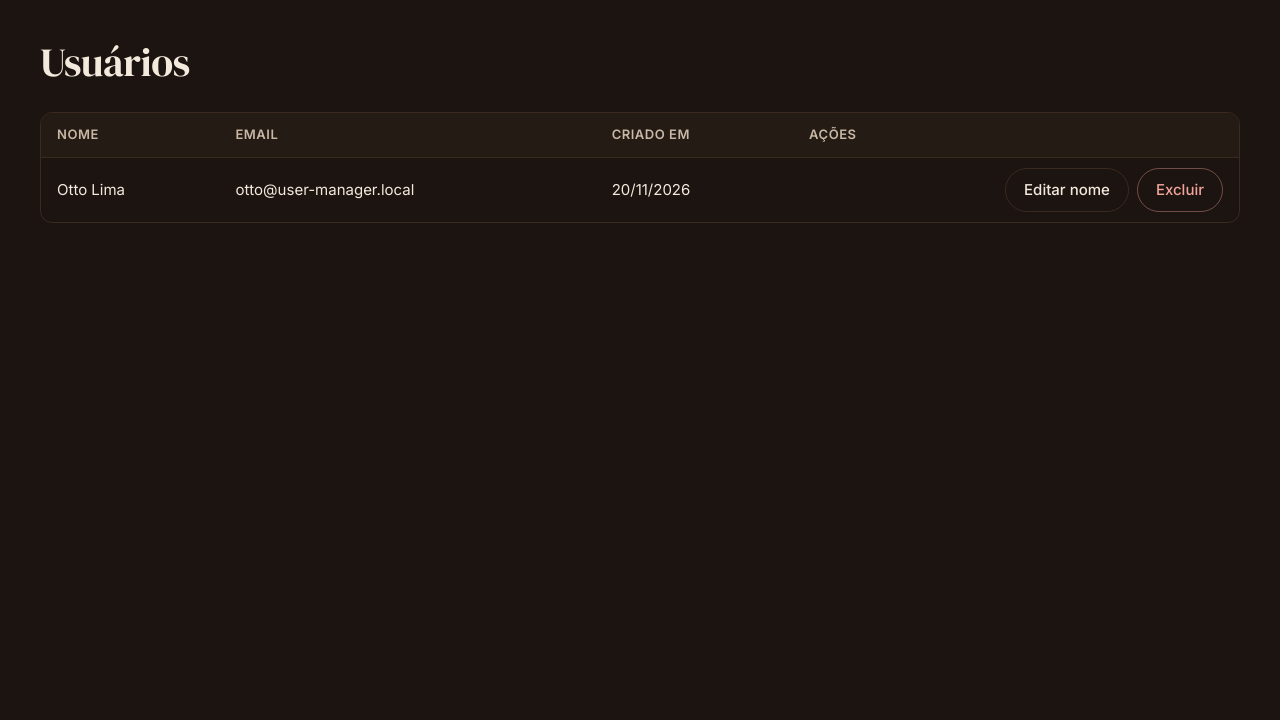
Test: UsersPage › UsersPage_OperatorDeletes_AfterInAppConfirmation
Click the button with aria-label "Excluir Otto Lima". click: click(1180, 190)
box: [1137,168,1223,212]
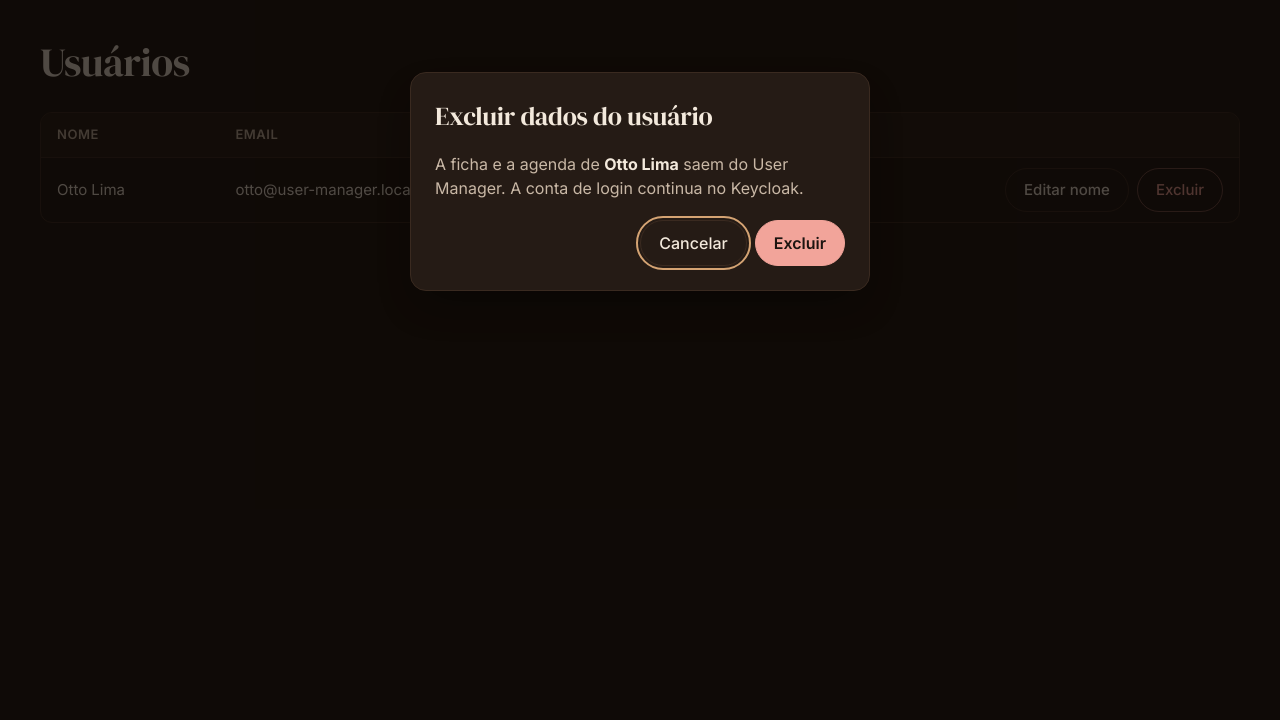
Click the button "Excluir". click: click(800, 243)
box: [755,220,845,266]
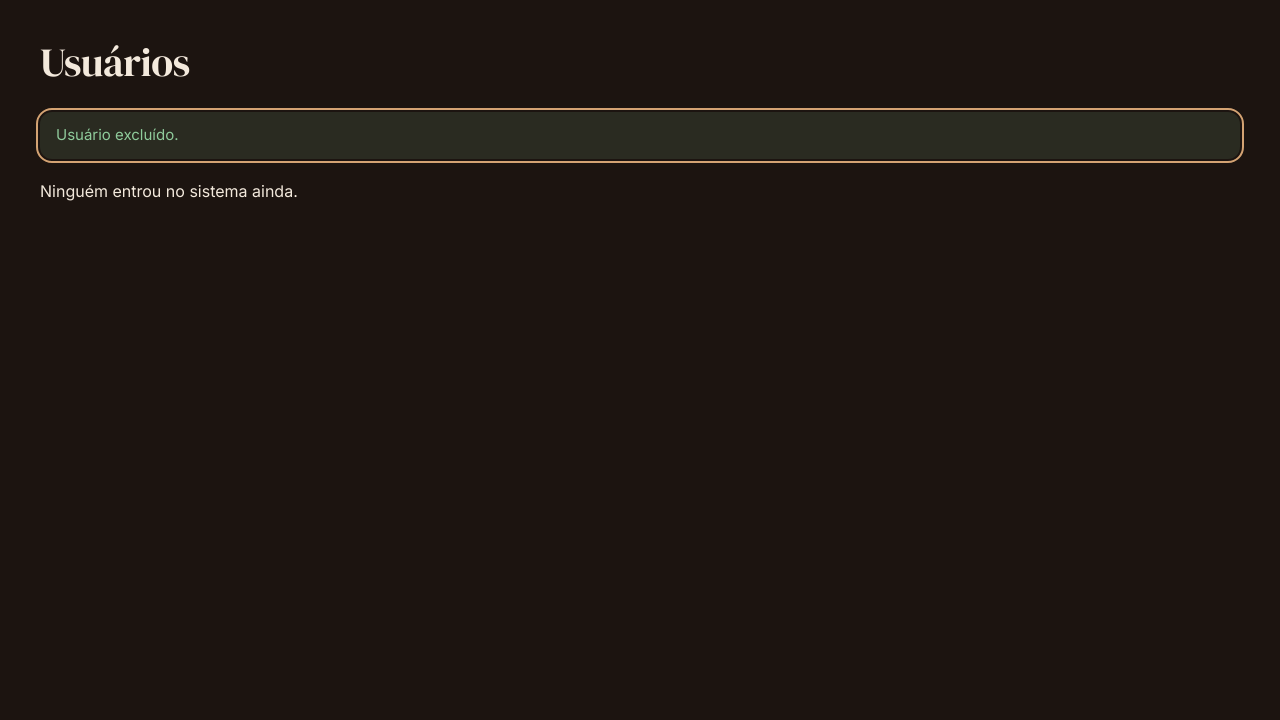
Now the text "Otto Lima" is gone
Now the dialog is gone
Now the message reads "Usuário excluído.", box [56,125,178,144]
